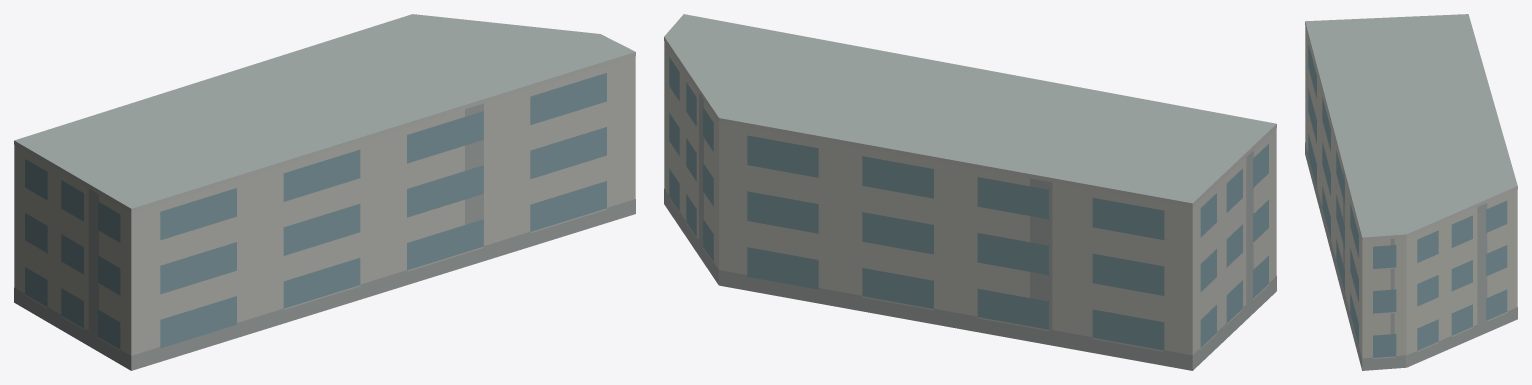
The model's file is survey-upis-33008979.glb.
The picture shows the model from 3 angles, left to right: view 1: azimuth 30°, elevation 25°; view 2: azimuth 150°, elevation 25°; view 3: azimuth 270°, elevation 25°; orthographic projection. The views are drawn at different scales.
Parts seen in each view (by area): view 1: survey-upis-33008979.tmp; view 2: survey-upis-33008979.tmp; view 3: survey-upis-33008979.tmp.
Boxes of the visible parts, box(x1,y1,x2,y2) form: survey-upis-33008979.tmp: box(14, 14, 635, 370); survey-upis-33008979.tmp: box(664, 14, 1276, 370); survey-upis-33008979.tmp: box(1305, 14, 1517, 370).
Size of the model in its own units: 32.91 by 9.15 by 13.23.
